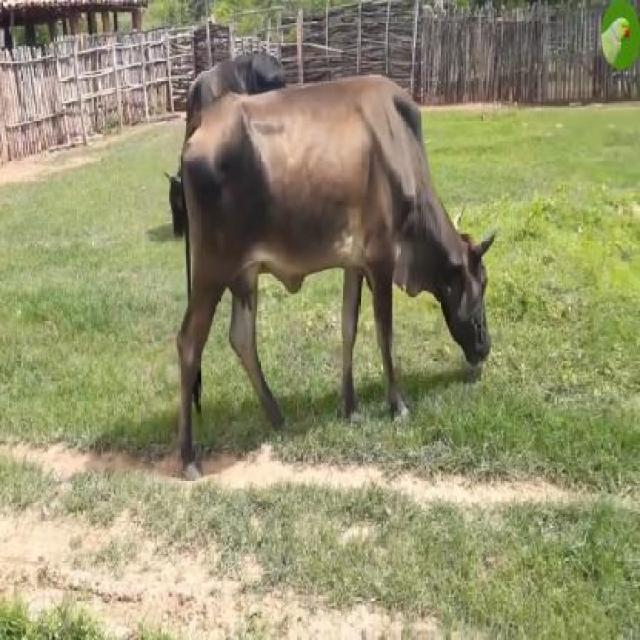Cow: (178, 74, 491, 449)
